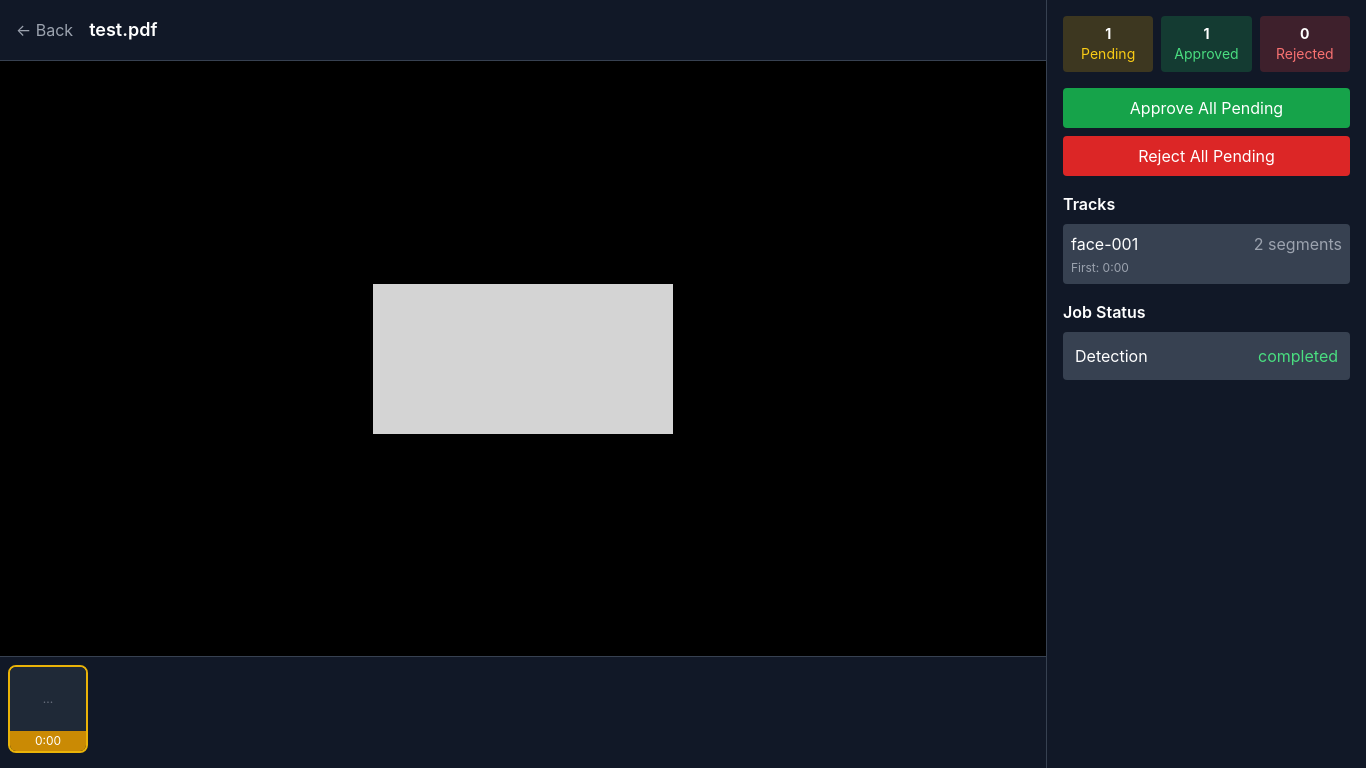
it: VideoReviewPage › Bulk Actions › should enable approve button when justification is provided
Click the button "Approve All Pending": (1206, 108) [1063,88,1350,128]
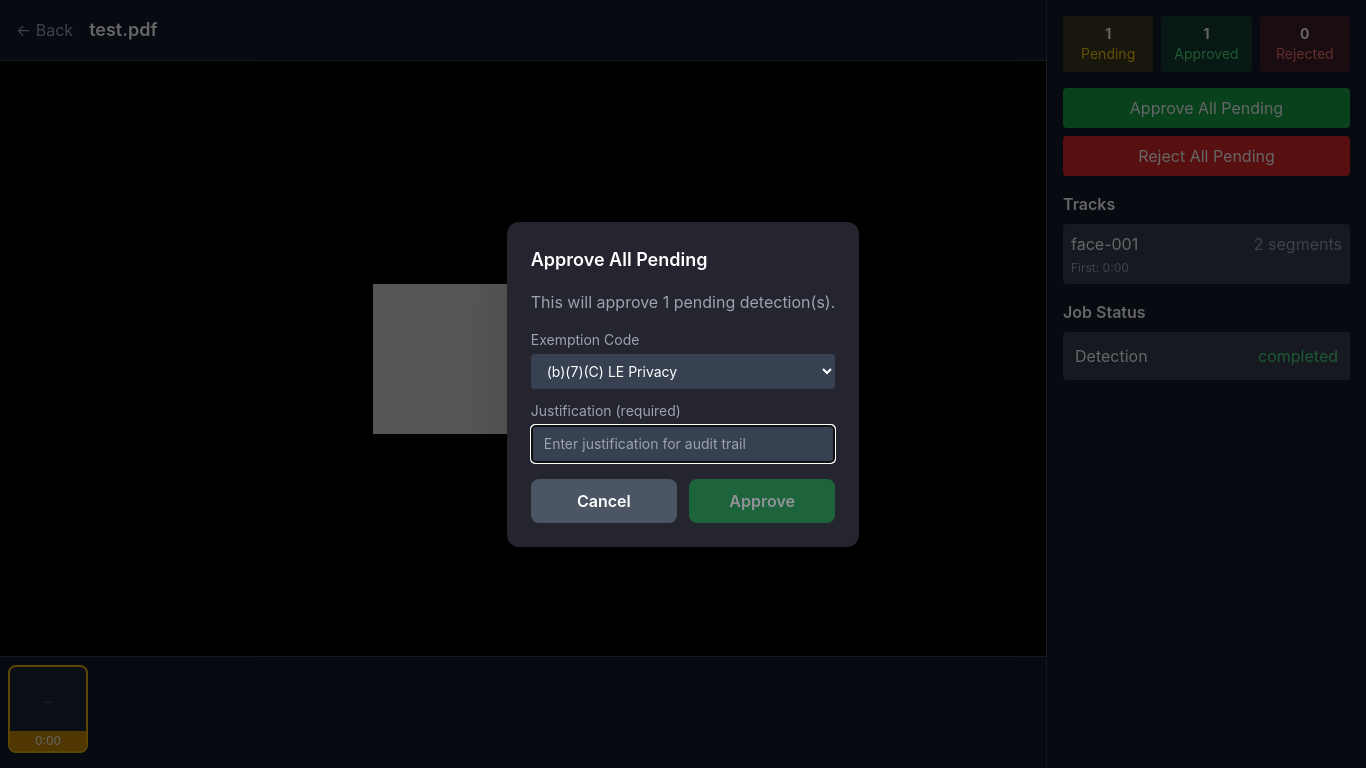
Check: the field with placeholder "Enter justification for audit trail" is shown
In the field with placeholder "Enter justification for audit trail": (683, 444) [531,424,835,462], type "Test justification"
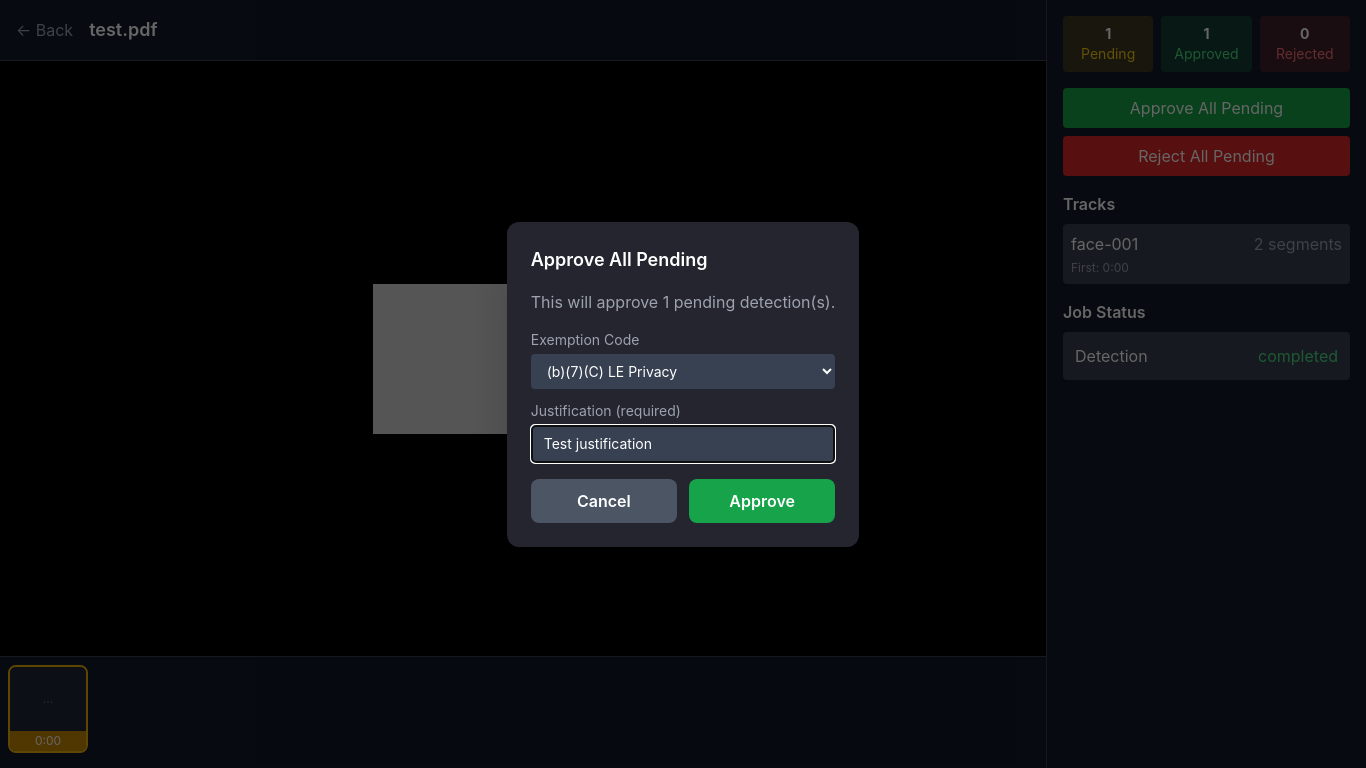
Check: the button "Approve" is enabled, box [689,478,835,522]
